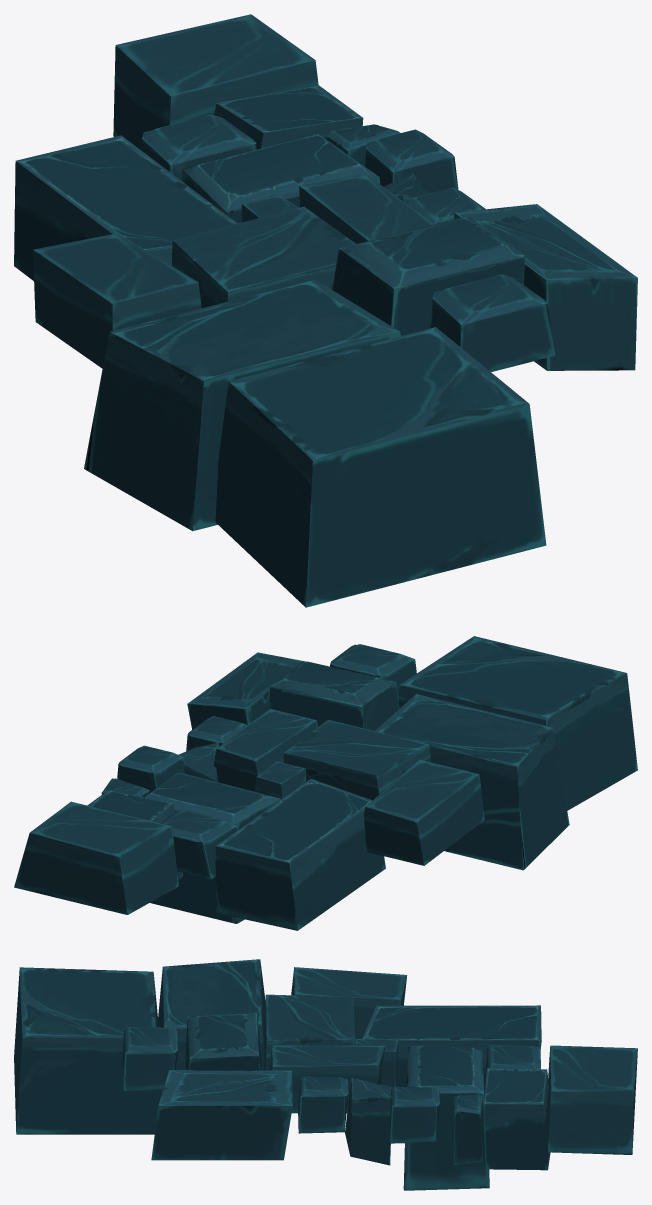
File: bricks_slim.fbx
3 renders of one model, top to bottom at view 1: azimuth 30°, elevation 25°; view 2: azimuth 150°, elevation 25°; view 3: azimuth 270°, elevation 25°, orthographic. The views are drawn at different scales.
Visible parts, largest first — view 1: polySurface27; view 2: polySurface27; view 3: polySurface27.
Boxes of the visible parts, bbox=[...] form: polySurface27: bbox=[14, 14, 637, 607]; polySurface27: bbox=[14, 636, 637, 930]; polySurface27: bbox=[14, 959, 637, 1190].
Size of the model in its own units: 1.11 by 0.446 by 1.92.
